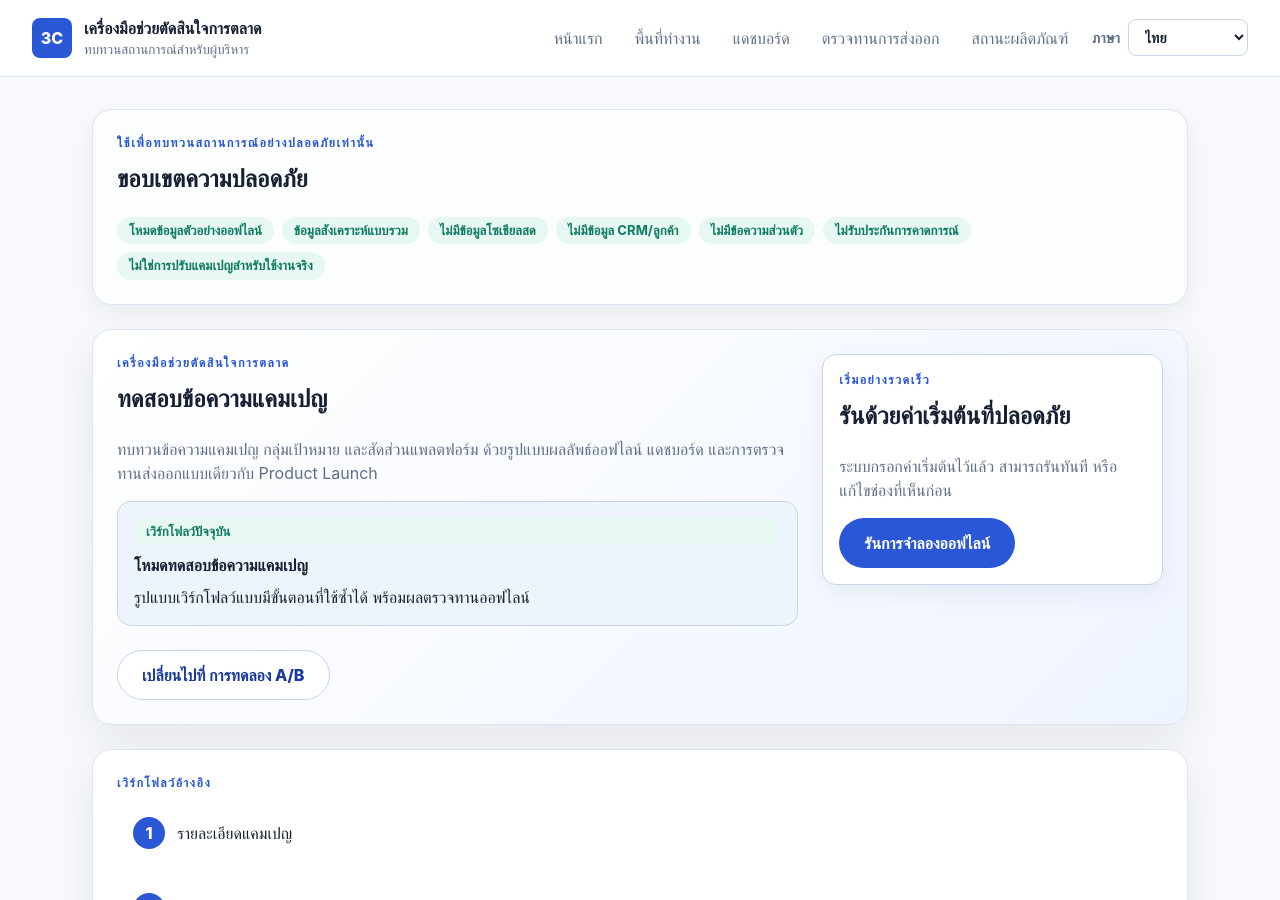
Test: M18 Thai-first internationalization › renders Thai and English labels for /workbench/campaign-message-test
Check: the heading "ทดสอบข้อความแคมเปญ" is shown, box [117,384,328,413]
Select "English" in the dropdown labelled "ภาษา" at [1188, 38], box [1128,20,1248,56]
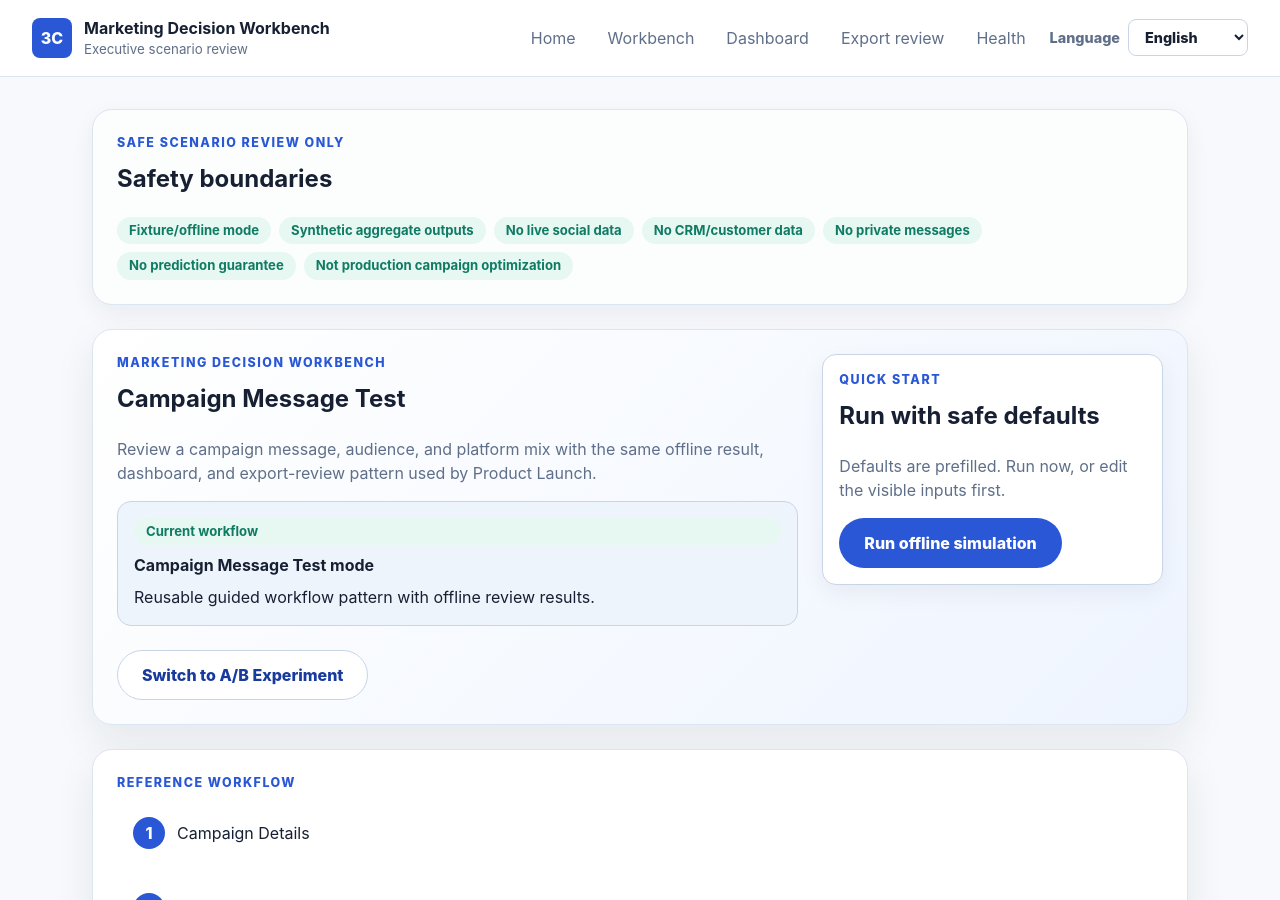
Check: the heading "Campaign Message Test" is shown, box [117,384,406,413]
